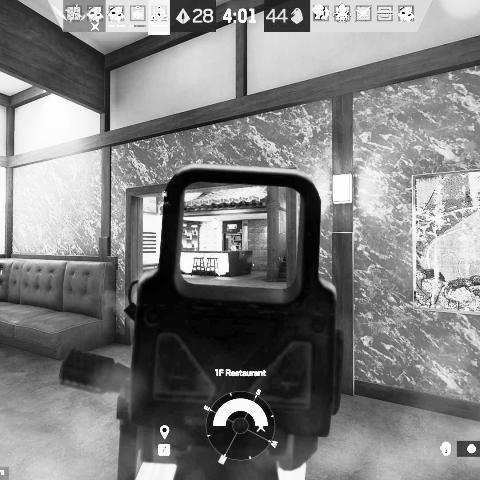Character: (229, 243, 237, 250)
Friend_label: (157, 191, 171, 205)
